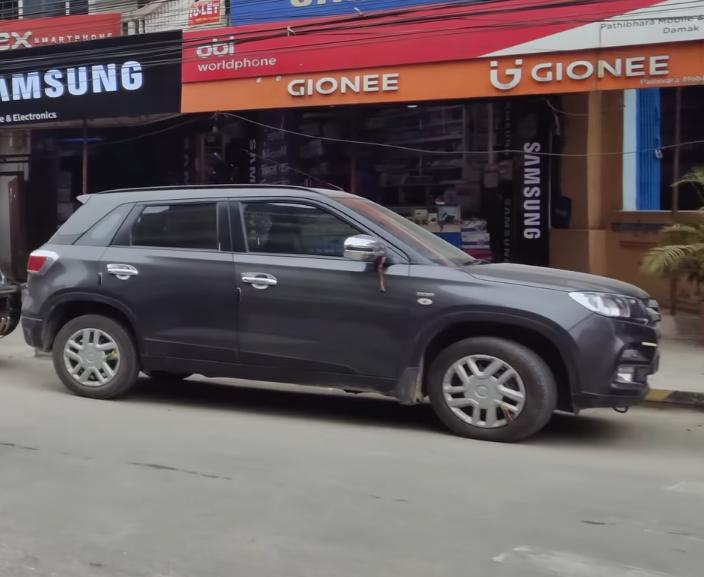car: (9, 189, 677, 439)
